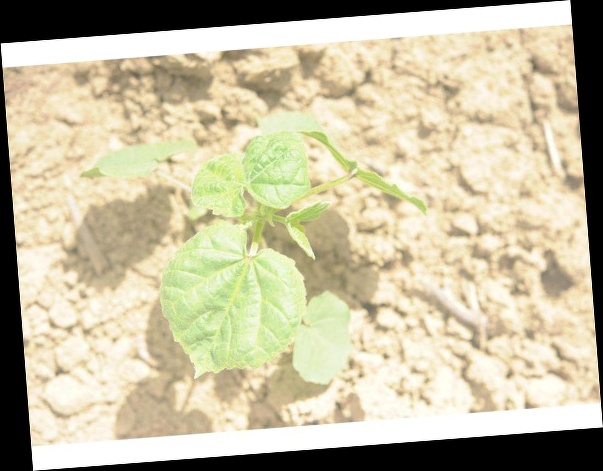velvet: (86, 111, 430, 389)
